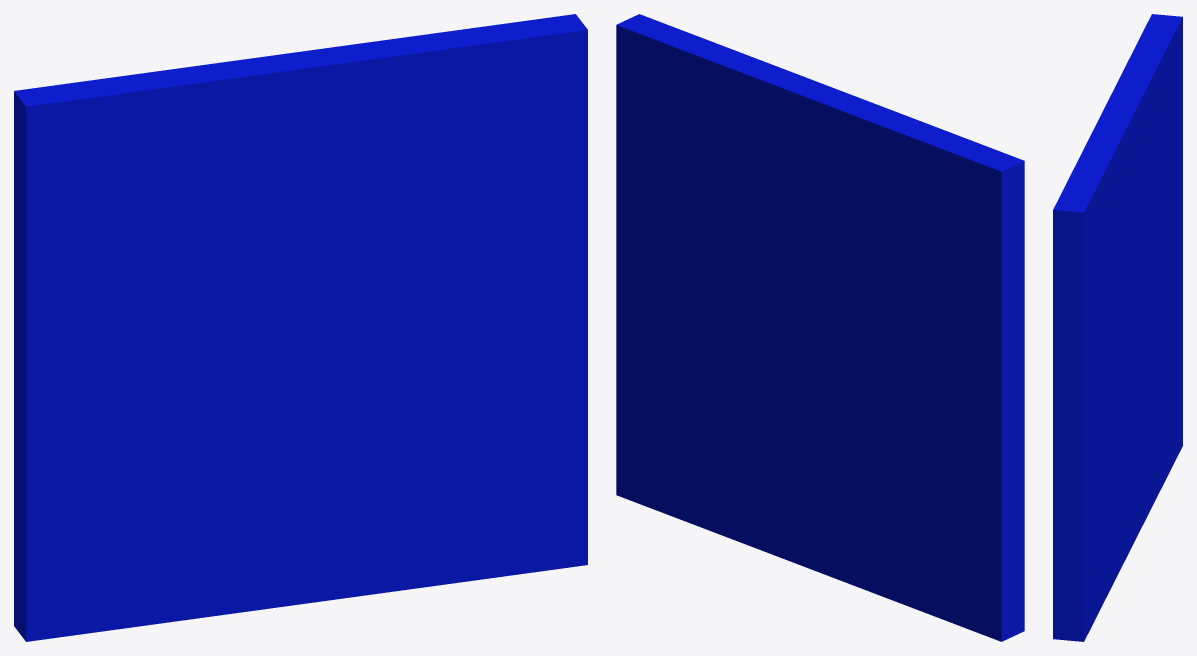
File: door_anim.fbx
3 renders of one model, left to right at view 1: azimuth 30°, elevation 25°; view 2: azimuth 150°, elevation 25°; view 3: azimuth 270°, elevation 25°, orthographic. The views are drawn at different scales.
Parts seen in each view (by area): view 1: Cube; view 2: Cube; view 3: Cube.
Boxes of the visible parts, x1,y1,x2,y2 form: Cube: (14,14,587,641); Cube: (616,14,1024,641); Cube: (1053,14,1182,641).
Bounding box in the file's own units: 198 × 200 × 54.76.
